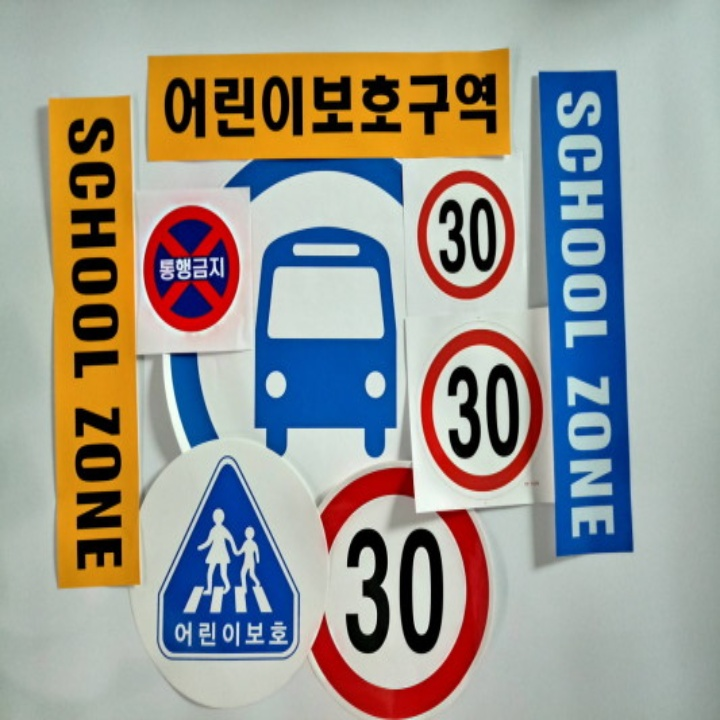child: (178, 503, 266, 588)
